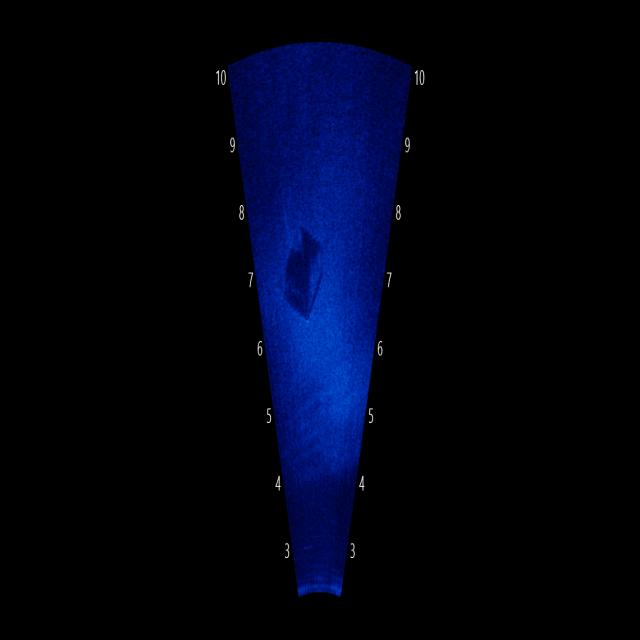square: (273, 203, 331, 327)
